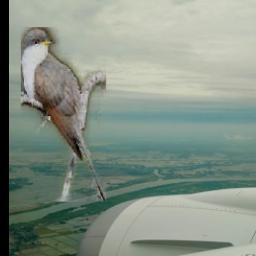Cuckoo: (21, 28, 106, 203)
